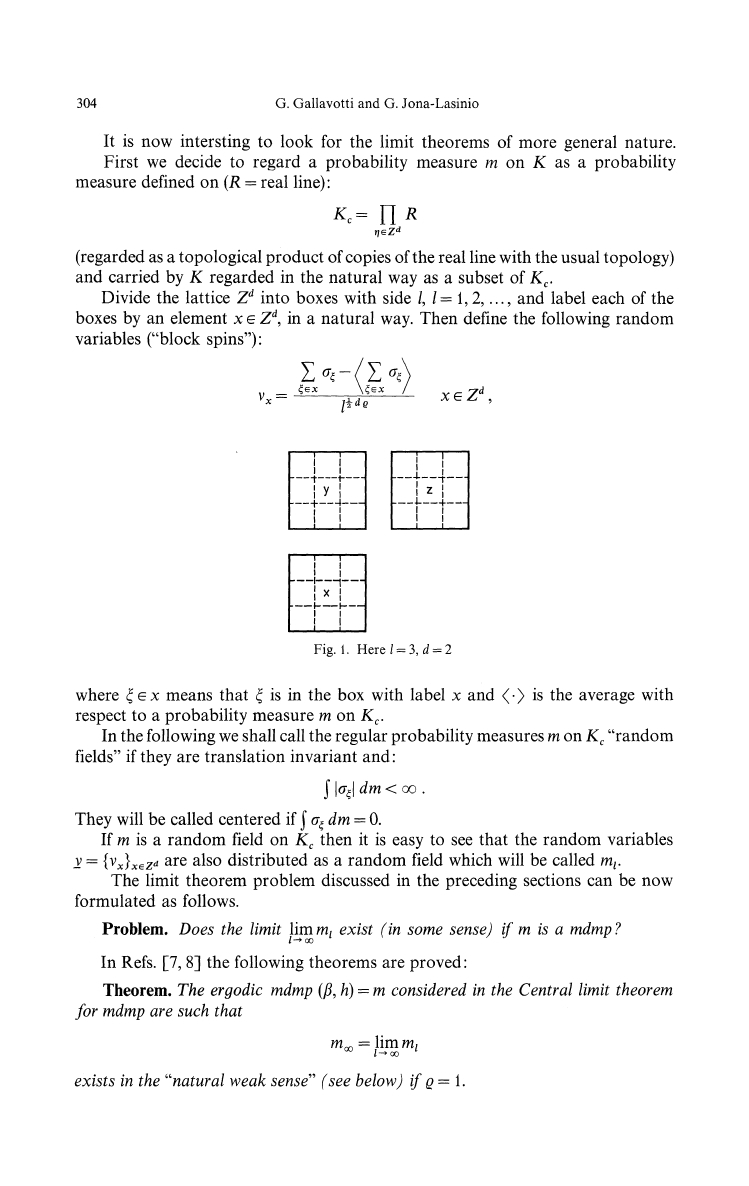figure: (236, 449, 469, 530), (288, 552, 366, 633)
formula: (259, 356, 491, 413), (333, 204, 416, 238), (324, 778, 424, 800), (331, 1034, 417, 1057)
